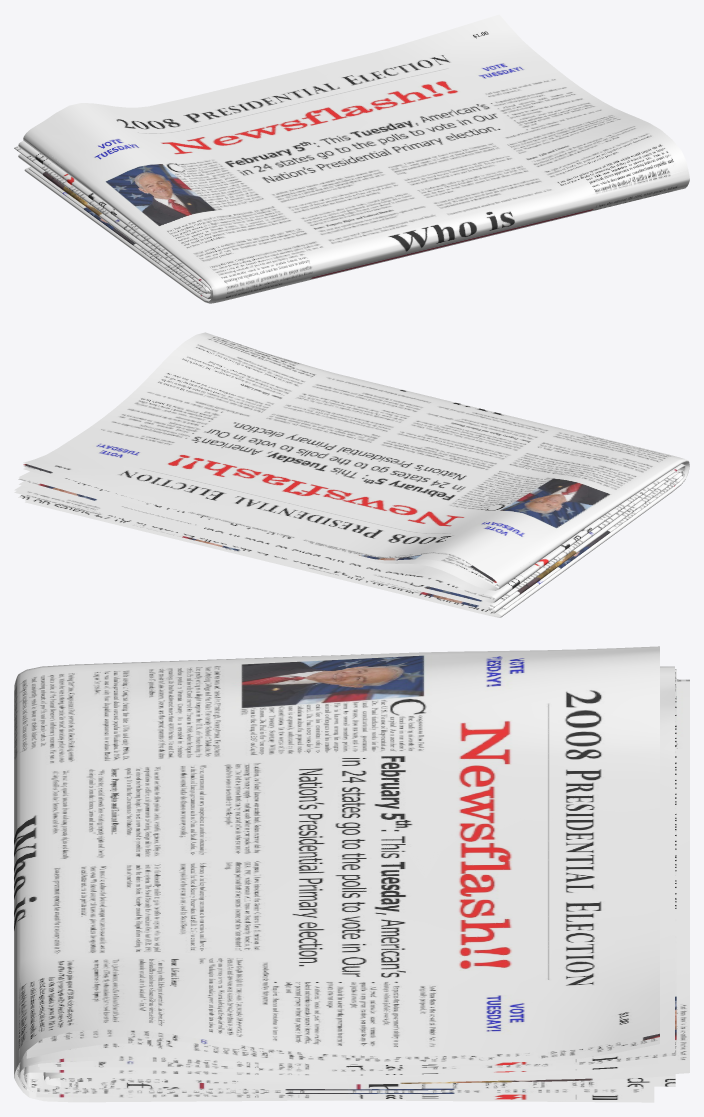
File: News.FBX
3 renders of one model, top to bottom at view 1: azimuth 30°, elevation 25°; view 2: azimuth 150°, elevation 25°; view 3: azimuth 270°, elevation 25°, orthographic. The views are drawn at different scales.
Visible parts, largest first — view 1: newspaper .newspaper7; view 2: newspaper .newspaper7; view 3: newspaper .newspaper7.
Boxes of the visible parts, x1,y1,x2,y2 form: newspaper .newspaper7: [14, 14, 689, 303]; newspaper .newspaper7: [14, 332, 689, 617]; newspaper .newspaper7: [14, 646, 689, 1102].
Size of the model in its own units: 0.5831 by 0.4221 by 0.0637.
